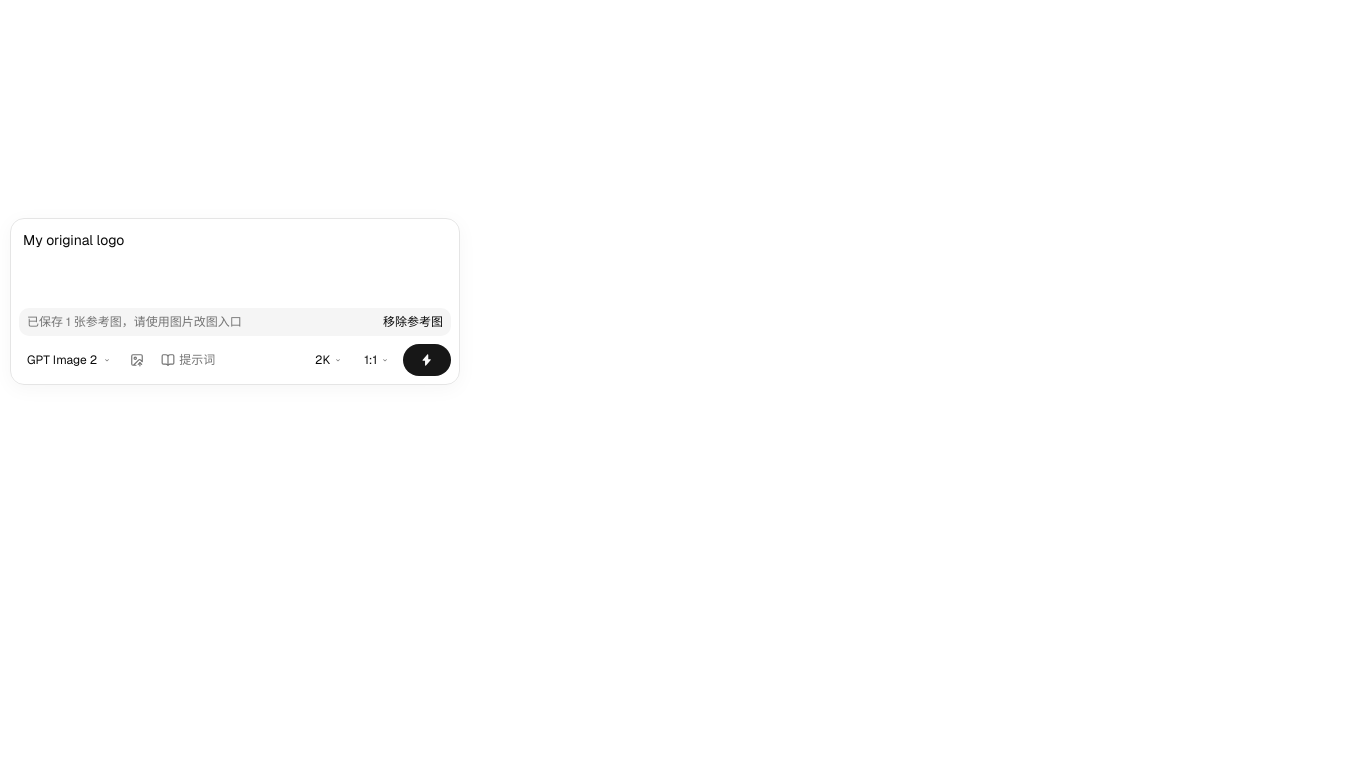
Test case: image generator prompt library › applies 追加到末尾 only to the targeted node and keeps its model, ratio, quality and references
Click the button with aria-label "打开提示词库" at (188, 360), box [153,344,223,376]
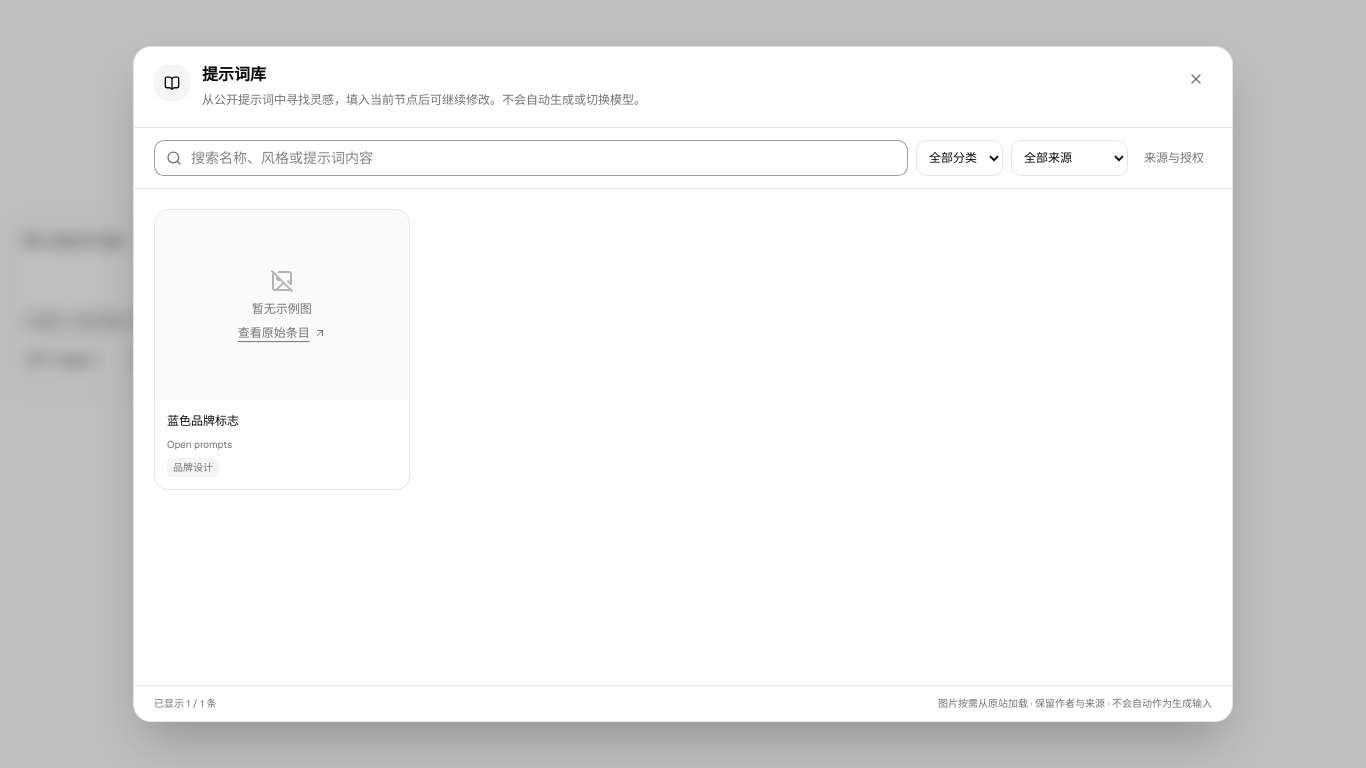
Click the button "蓝色品牌标志 Open prompts 品牌设计" at (282, 444), box [155,400,408,489]
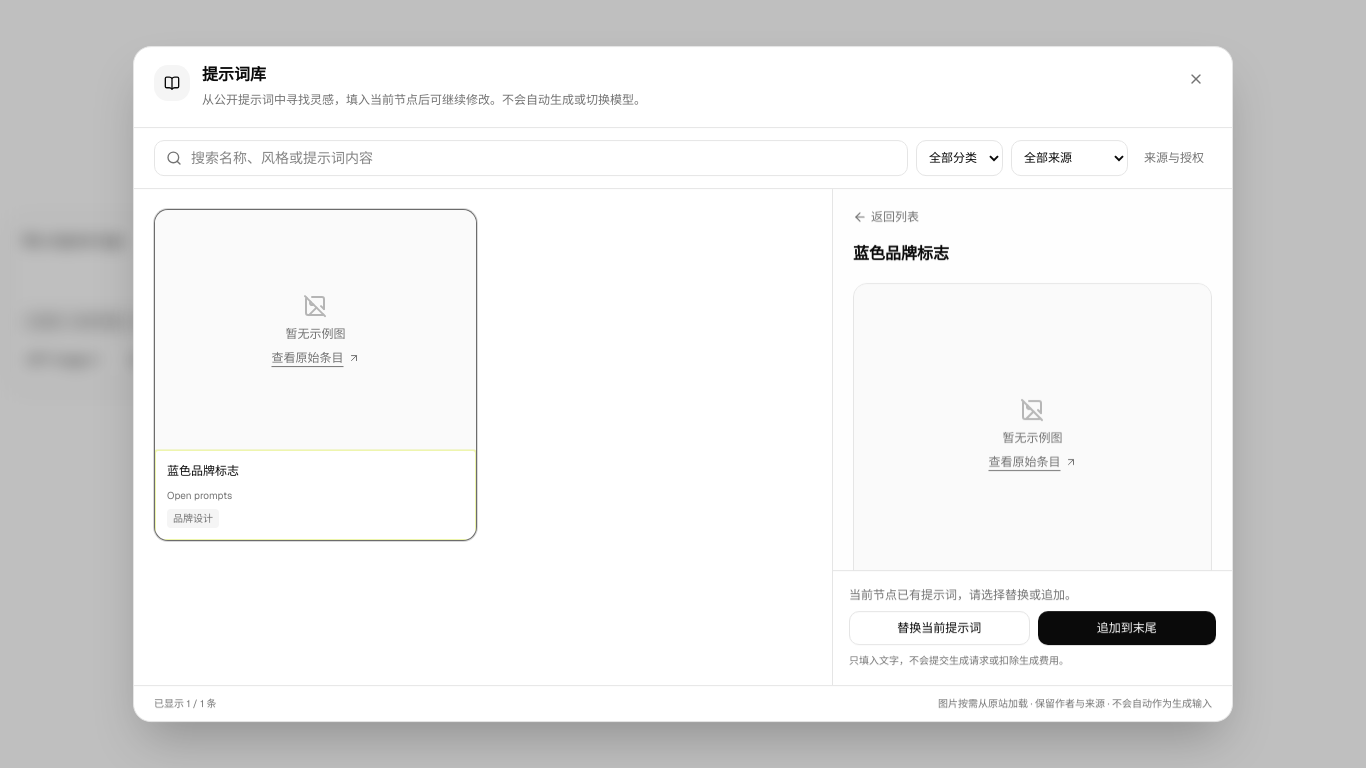
Click the button "追加到末尾" at (1127, 628), box [1038,611,1216,645]
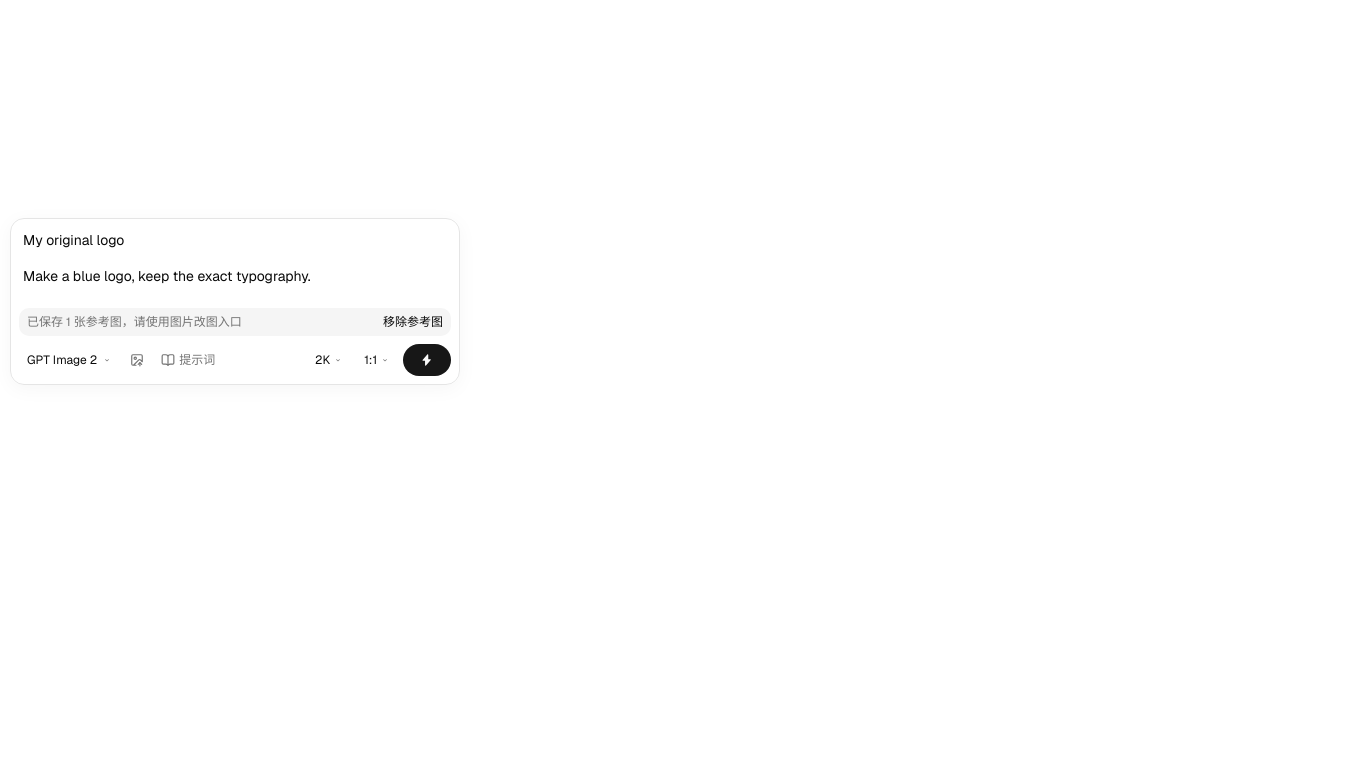
Check: the dialog is gone
